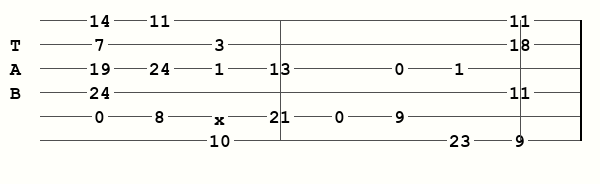0: (94, 108, 109, 124), (334, 108, 349, 124), (394, 60, 409, 76)
1: (214, 60, 229, 76), (454, 60, 469, 76)
10: (209, 132, 235, 148)
11: (149, 12, 175, 28), (509, 84, 535, 100), (509, 12, 535, 28)
13: (269, 60, 295, 76)
14: (89, 12, 115, 28)
18: (509, 36, 535, 52)
19: (89, 60, 115, 76)
21: (269, 108, 295, 124)
23: (449, 132, 475, 148)
24: (89, 84, 115, 100), (149, 60, 175, 76)
3: (214, 36, 229, 52)
7: (94, 36, 109, 52)
8: (154, 108, 169, 124)
9: (394, 108, 409, 124), (514, 132, 529, 148)
x: (214, 110, 229, 122)
